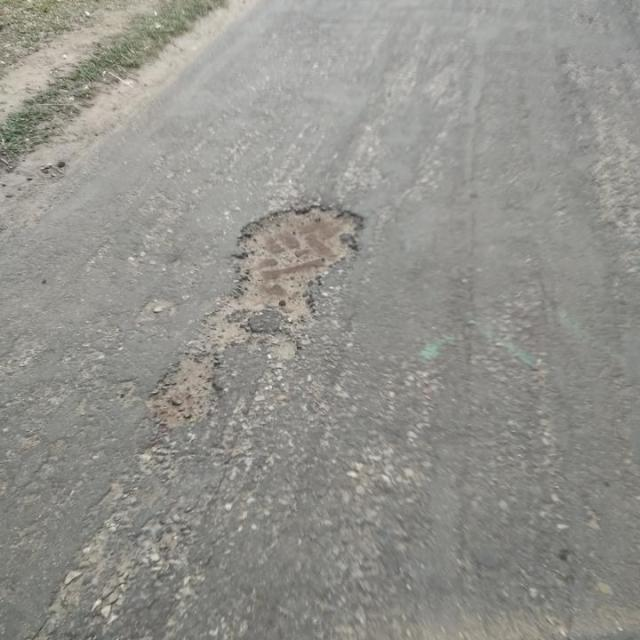medium_pothole: (227, 198, 365, 319)
minor_pothole: (142, 351, 220, 429)
